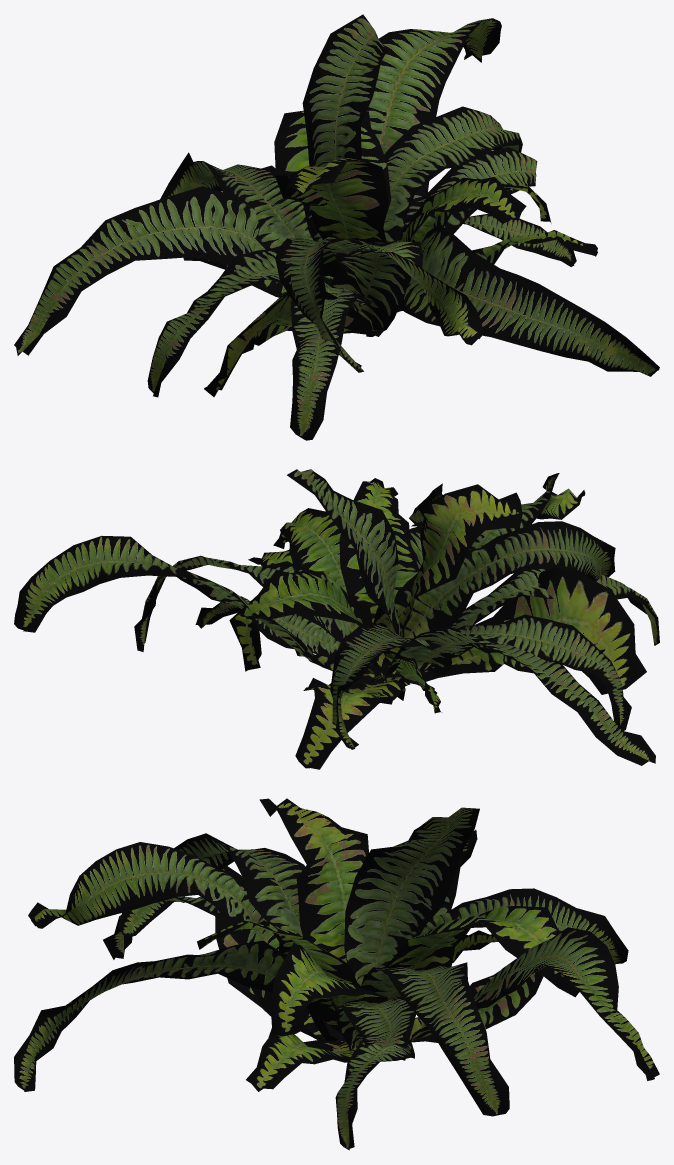
File: fern_new.obj
3 renders of one model, top to bottom at view 1: azimuth 30°, elevation 25°; view 2: azimuth 150°, elevation 25°; view 3: azimuth 270°, elevation 25°, orthographic. The views are drawn at different scales.
Parts seen in each view (by area): view 1: fern_02_b; view 2: fern_02_b; view 3: fern_02_b.
Boxes of the visible parts, left/top/right/bottom form: fern_02_b: left=14, top=14, right=659, bottom=440; fern_02_b: left=14, top=469, right=659, bottom=769; fern_02_b: left=14, top=798, right=659, bottom=1150.
Bounding box in the file's own units: 0.9897 × 0.4277 × 0.8937.
